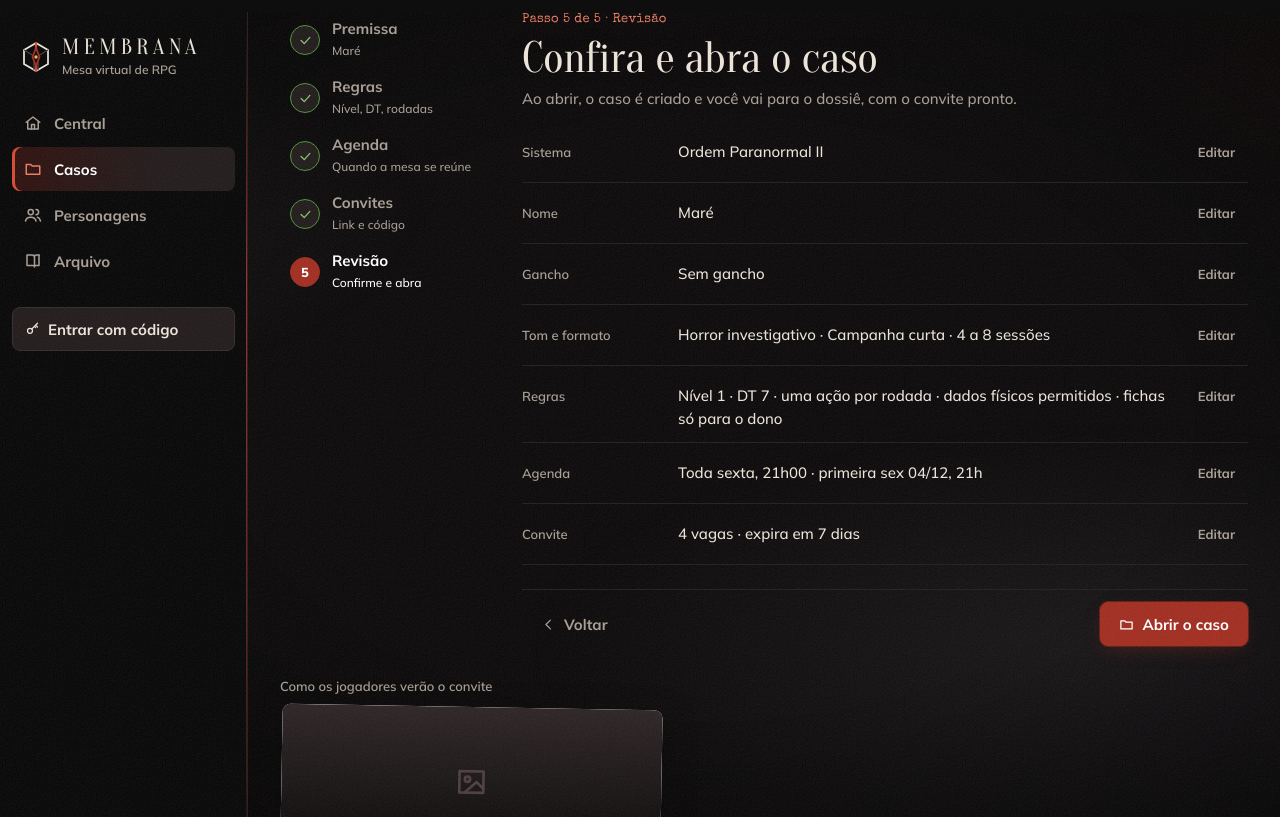
Test case: Novo caso › campo recusado pelo servidor volta ao passo dele com a mensagem
Click the button "Abrir o caso" at (1174, 624), box [1100, 602, 1248, 646]
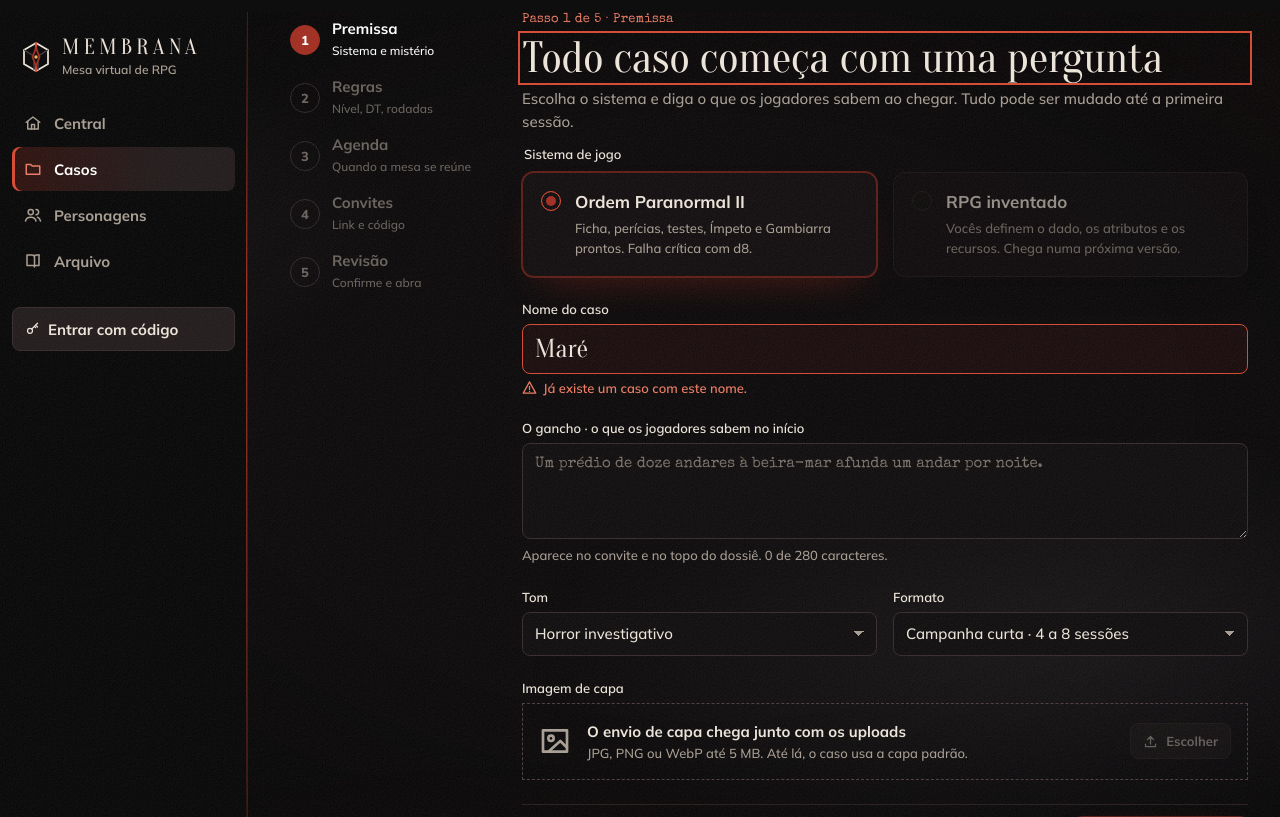
Expected: the heading "Todo caso começa com uma pergunta" is shown, [522, 35, 1248, 81]
Expected: the text "Já existe um caso com este nome." is shown, [522, 380, 747, 396]
